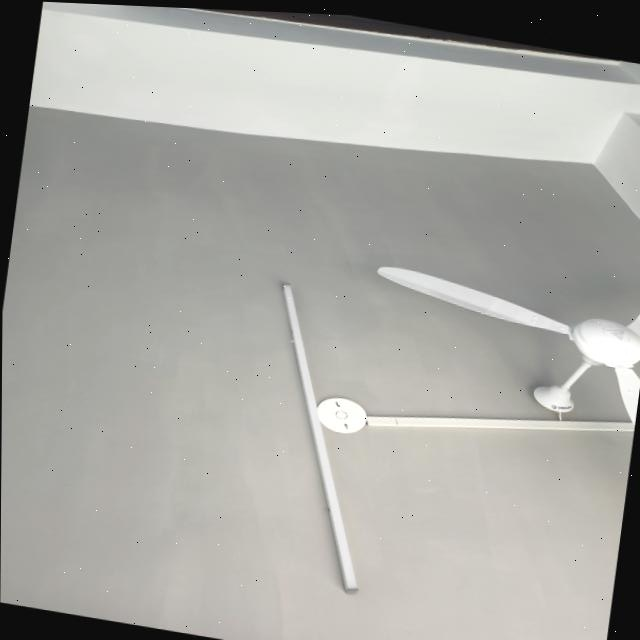fluorescent tube: (227, 270, 402, 598)
